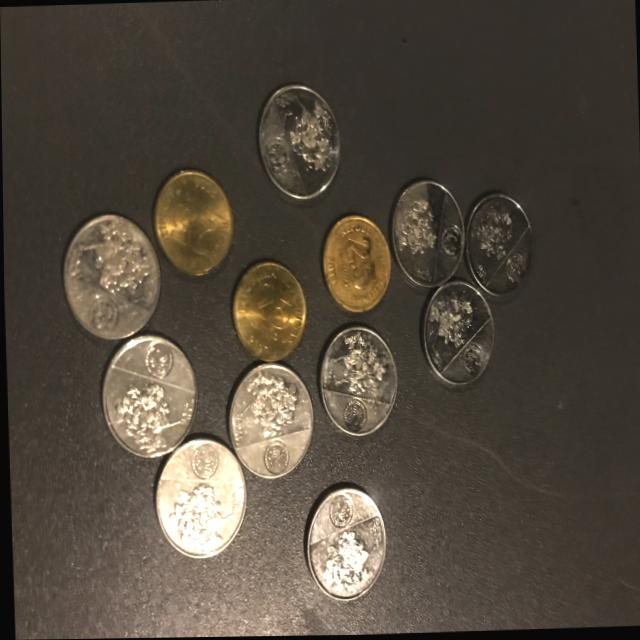1_New_Back: (284, 89, 338, 185), (322, 330, 393, 396), (233, 366, 301, 434), (314, 528, 375, 598), (424, 284, 478, 357), (472, 201, 518, 265)
25Cent_Old_Front: (242, 275, 295, 350), (335, 230, 381, 296)
